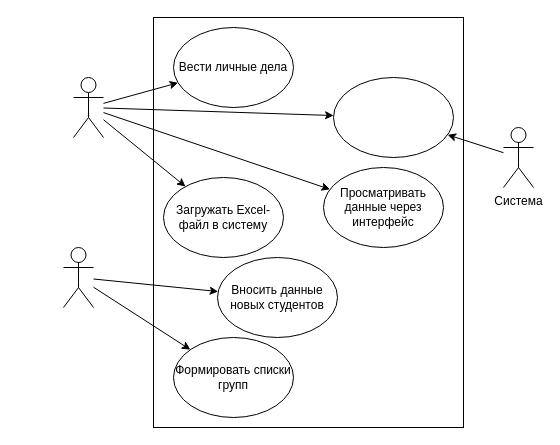
Some shapes in this 560 by 445 pixel diagram are drawn without their labels. Each missing label, with the centre of its shape:
"Приёмная комиссия" goes at [78,277].
"Сопоставлять названия учебных заведений" goes at [393,117].
"Сотрудник учебной части" goes at [88,107].
